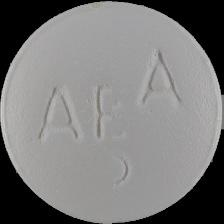60505-3111: (0, 0, 224, 224)
